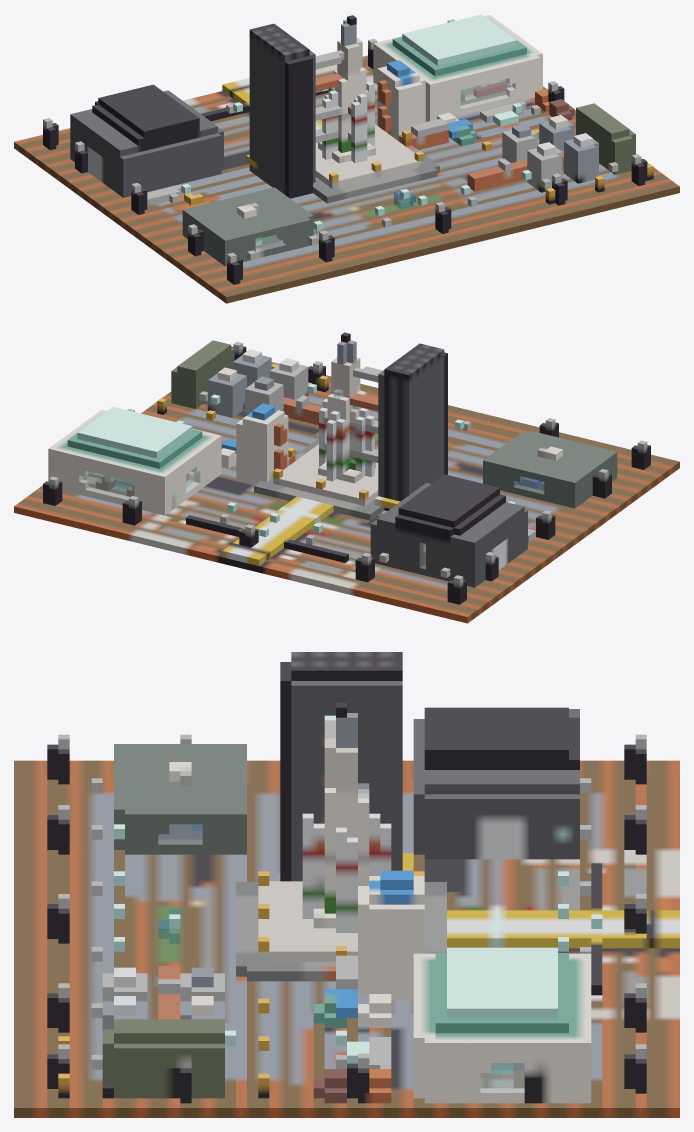
3 renders of one model, top to bottom at view 1: azimuth 30°, elevation 25°; view 2: azimuth 150°, elevation 25°; view 3: azimuth 270°, elevation 25°, orthographic. The views are drawn at different scales.
Visible parts, largest first — view 1: rocket_LOD1; view 2: rocket_LOD1; view 3: rocket_LOD1.
Boxes of the visible parts, x1,y1,x2,y2 form: rocket_LOD1: (14, 14, 679, 303); rocket_LOD1: (14, 332, 679, 623); rocket_LOD1: (14, 652, 679, 1117).
Size of the model in its own units: 37 by 14 by 30.
Materials: 2 (2 with a texture image).
